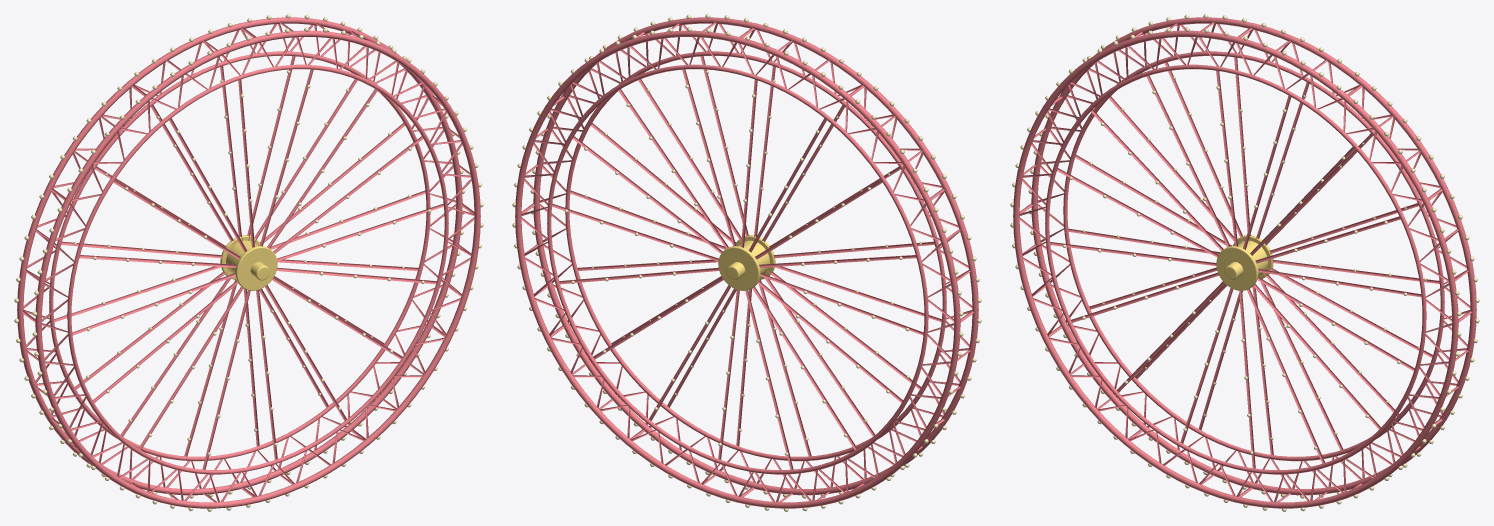
The model's file is LobbyFerrisWheel.glb.
3 views of the same model, side by side, from view 1: azimuth 30°, elevation 25°; view 2: azimuth 150°, elevation 25°; view 3: azimuth 330°, elevation 25° (orthographic).
Visible parts, largest first — view 1: Frame, Lights, Hub; view 2: Frame, Lights, Hub; view 3: Frame, Lights, Hub.
Part boxes in pixels (<box>): Frame: <box>17,17,480,508</box>; Lights: <box>14,14,483,511</box>; Hub: <box>220,235,277,290</box>; Frame: <box>515,17,978,508</box>; Lights: <box>512,14,981,511</box>; Hub: <box>718,235,775,290</box>; Frame: <box>1013,17,1476,508</box>; Lights: <box>1010,14,1479,511</box>; Hub: <box>1216,235,1273,290</box>.
Bounding box in the file's own units: 65.62 × 65.62 × 7.4.
